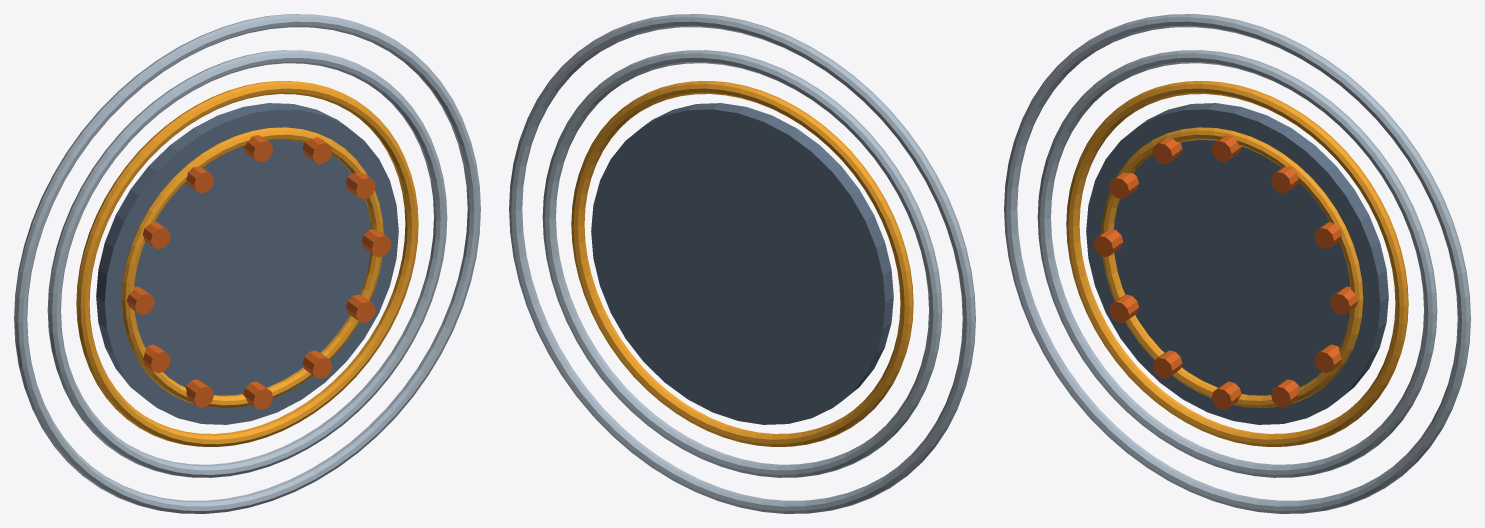
File: 04_L87_StationaryGravityHub.fbx
3 views of the same model, side by side, from view 1: azimuth 30°, elevation 25°; view 2: azimuth 150°, elevation 25°; view 3: azimuth 330°, elevation 25° (orthographic).
Parts seen in each view (by area): view 1: L87_StationaryGravityHub_Part_0000, L87_StationaryGravityHub_Part_0002, L87_StationaryGravityHub_Part_0001, L87_StationaryGravityHub_Part_0003; view 2: L87_StationaryGravityHub_Part_0000, L87_StationaryGravityHub_Part_0002, L87_StationaryGravityHub_Part_0001; view 3: L87_StationaryGravityHub_Part_0000, L87_StationaryGravityHub_Part_0002, L87_StationaryGravityHub_Part_0001, L87_StationaryGravityHub_Part_0003.
Boxes of the visible parts, x1,y1,x2,y2 form: L87_StationaryGravityHub_Part_0000: (96,103,398,424); L87_StationaryGravityHub_Part_0002: (14,14,480,513); L87_StationaryGravityHub_Part_0001: (76,81,418,446); L87_StationaryGravityHub_Part_0003: (126,135,391,409); L87_StationaryGravityHub_Part_0000: (591,103,893,424); L87_StationaryGravityHub_Part_0002: (509,14,975,513); L87_StationaryGravityHub_Part_0001: (571,81,913,446); L87_StationaryGravityHub_Part_0000: (1086,103,1388,424); L87_StationaryGravityHub_Part_0002: (1004,14,1470,513); L87_StationaryGravityHub_Part_0001: (1066,81,1408,446); L87_StationaryGravityHub_Part_0003: (1093,135,1358,409).
Size of the model in its own units: 373 by 373 by 28.
